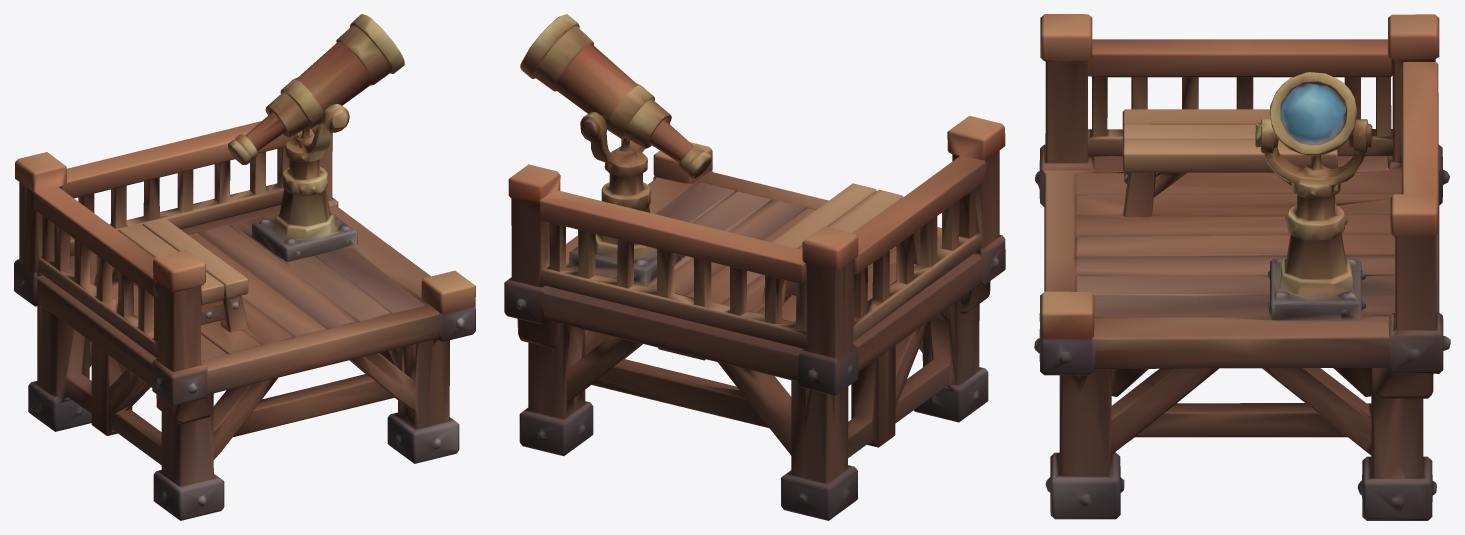
File: lookout-JP10f3hl.glb
3 renders of one model, left to right at view 1: azimuth 30°, elevation 25°; view 2: azimuth 150°, elevation 25°; view 3: azimuth 270°, elevation 25°, orthographic. The views are drawn at different scales.
Visible parts, largest first — view 1: tripo_node_eabd92ca-38f9-4d42-856c-2c98c1b6244e; view 2: tripo_node_eabd92ca-38f9-4d42-856c-2c98c1b6244e; view 3: tripo_node_eabd92ca-38f9-4d42-856c-2c98c1b6244e.
Part boxes in pixels (bbox=[...]): tripo_node_eabd92ca-38f9-4d42-856c-2c98c1b6244e: bbox=[14, 14, 475, 520]; tripo_node_eabd92ca-38f9-4d42-856c-2c98c1b6244e: bbox=[504, 14, 1005, 520]; tripo_node_eabd92ca-38f9-4d42-856c-2c98c1b6244e: bbox=[1034, 14, 1450, 520].
Bounding box in the file's own units: 0.9597 × 0.9786 × 0.8105.
